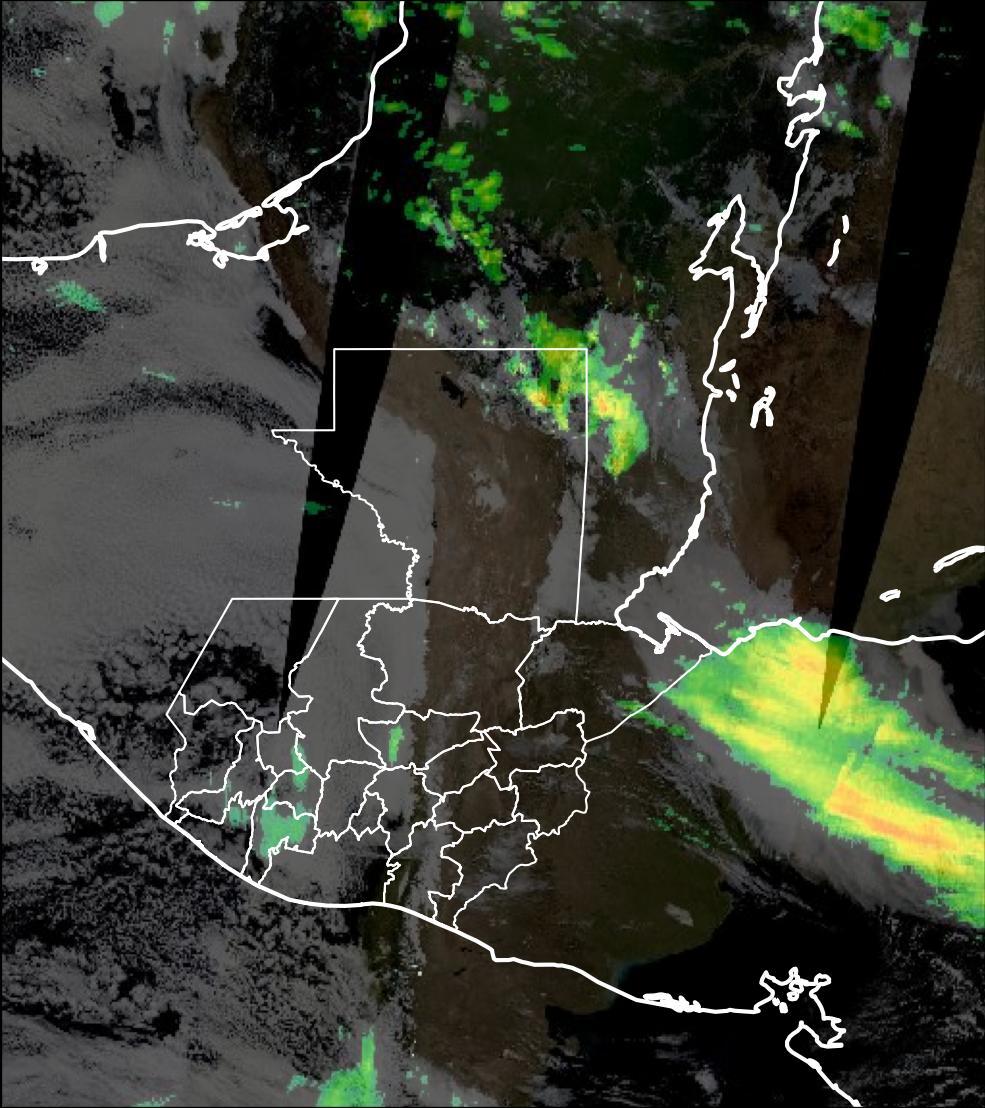precipitacion: (821, 766, 976, 889)
